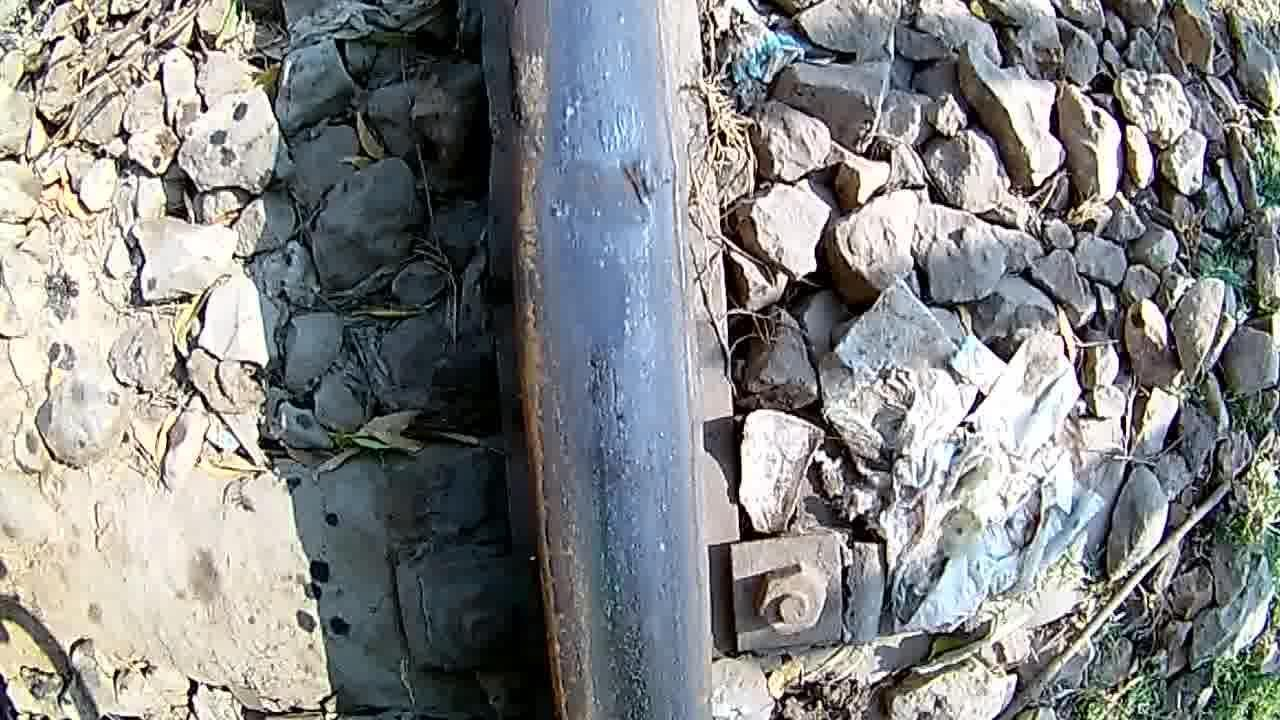crack: (512, 13, 690, 636)
